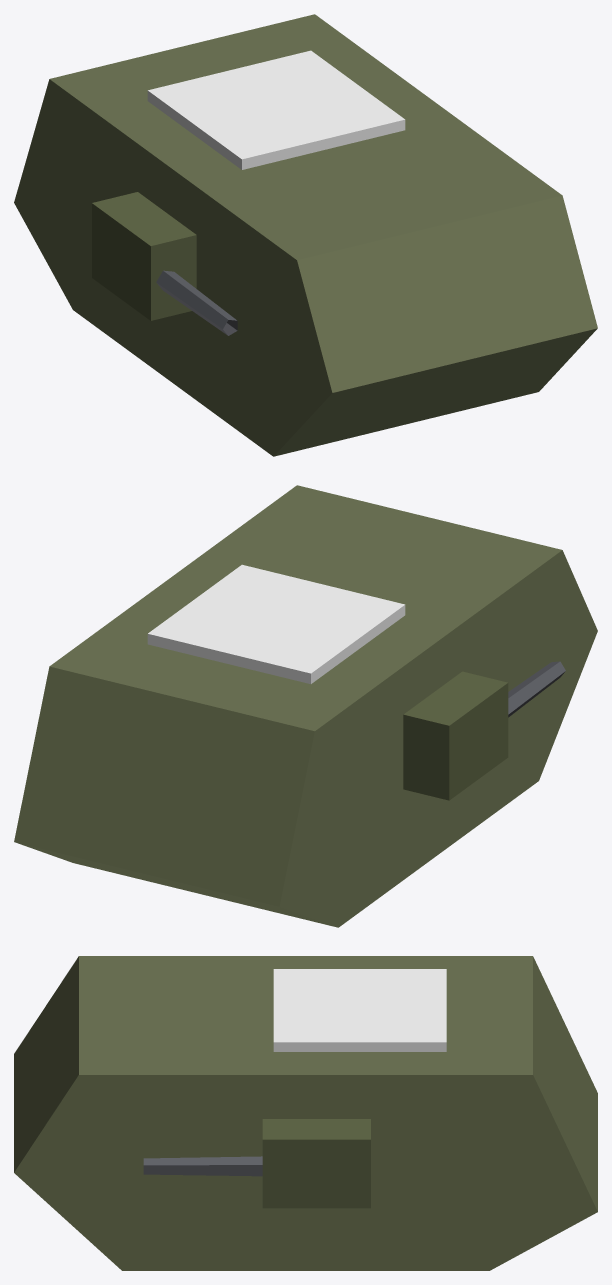
Rendered from Landship.glb.
3 renders of one model, top to bottom at view 1: azimuth 30°, elevation 25°; view 2: azimuth 150°, elevation 25°; view 3: azimuth 270°, elevation 25°, orthographic. The views are drawn at different scales.
Visible parts, largest first — view 1: Units_Landship; view 2: Units_Landship; view 3: Units_Landship.
Boxes of the visible parts, x1,y1,x2,y2 form: Units_Landship: (14, 14, 597, 456); Units_Landship: (14, 485, 597, 927); Units_Landship: (14, 956, 597, 1270).
Bounding box in the file's own units: 0.175 × 0.105 × 0.27.
